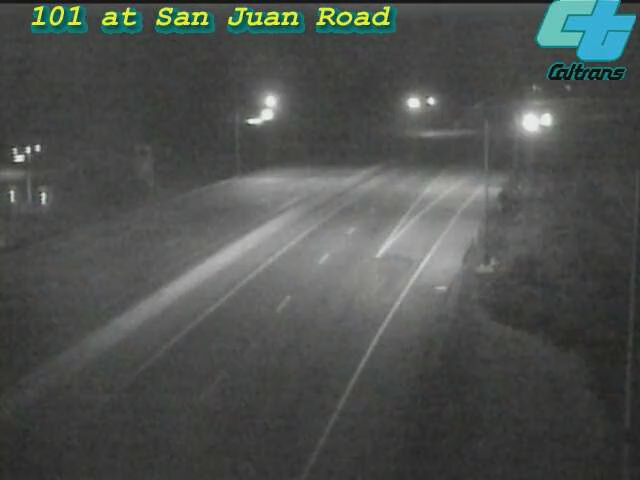vehicle: (507, 98, 557, 148), (518, 94, 568, 144)
